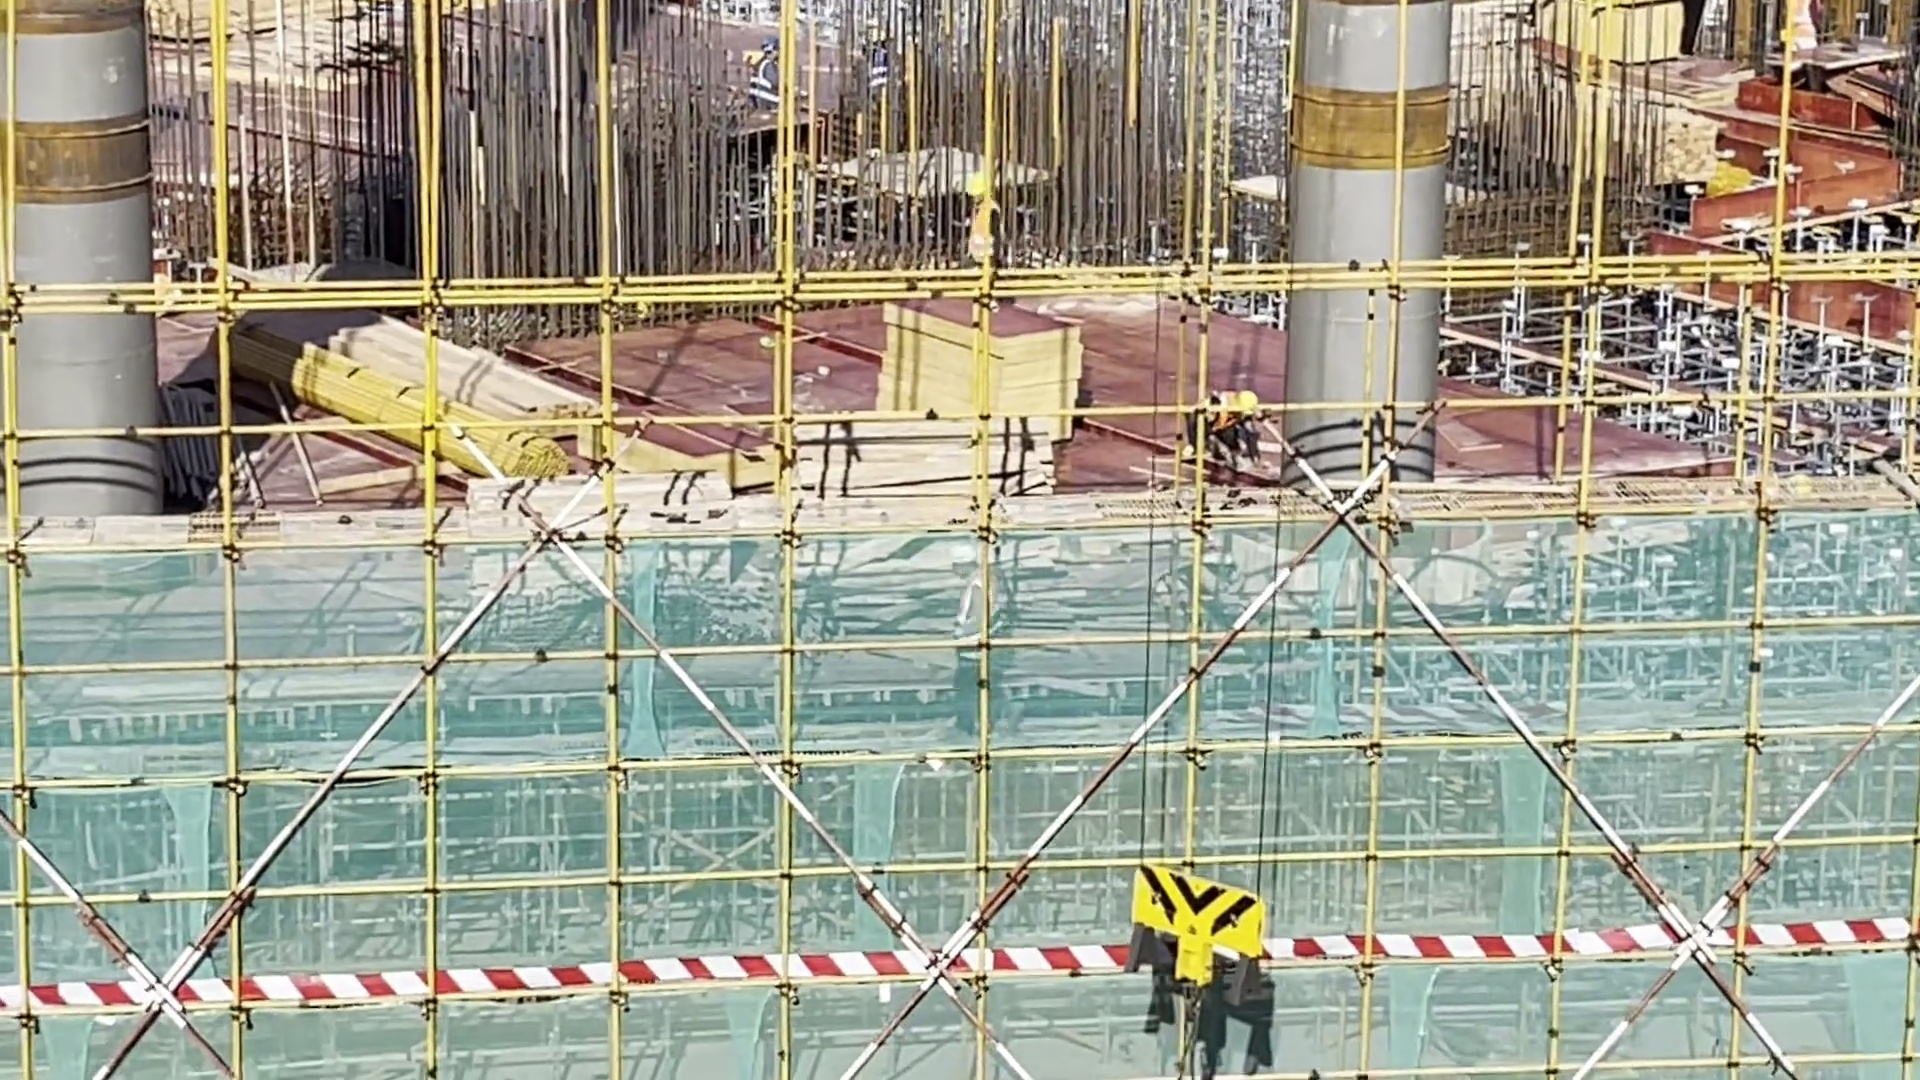board: (873, 297, 1094, 434)
hook: (1127, 866, 1263, 1015)
person: (1196, 381, 1263, 483), (956, 165, 1002, 264)
vest: (968, 202, 996, 258)
wood: (277, 300, 616, 477), (1627, 100, 1723, 188)
